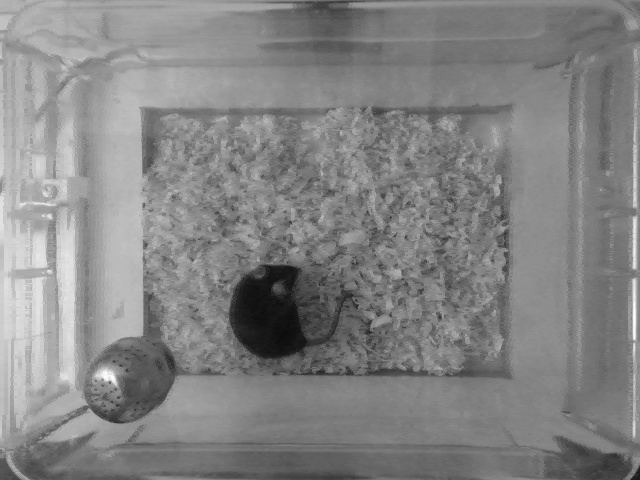mice: (230, 261, 355, 356)
